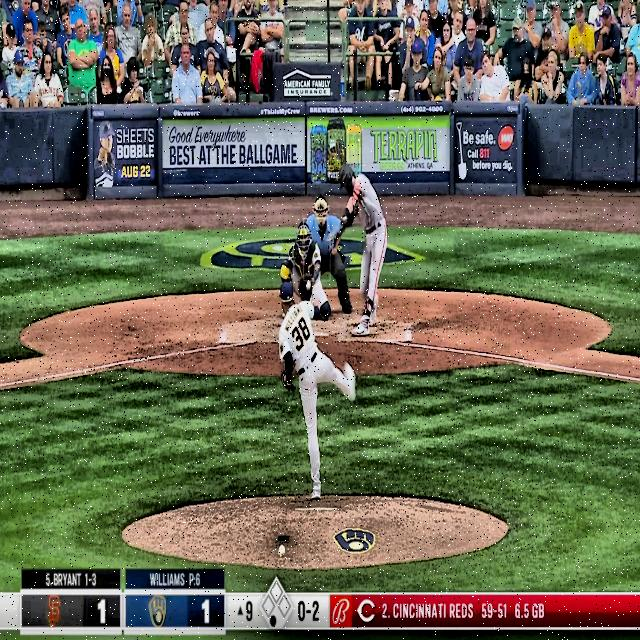baseball: (306, 280, 311, 291)
